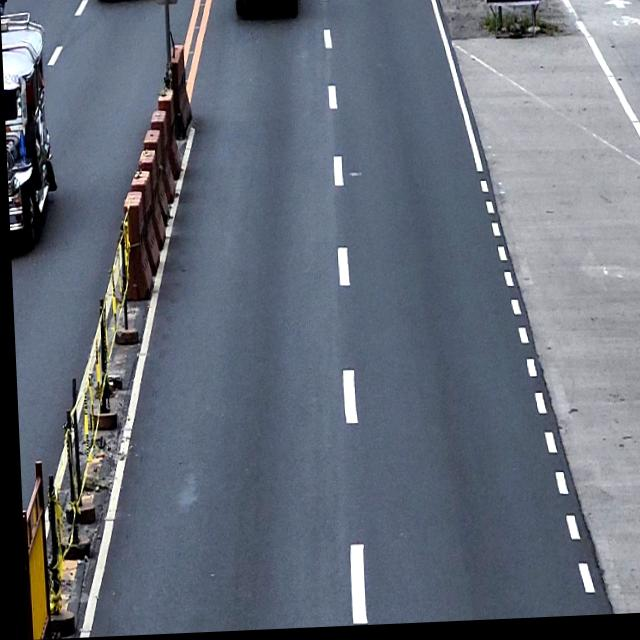Jeep: (0, 8, 58, 248)
